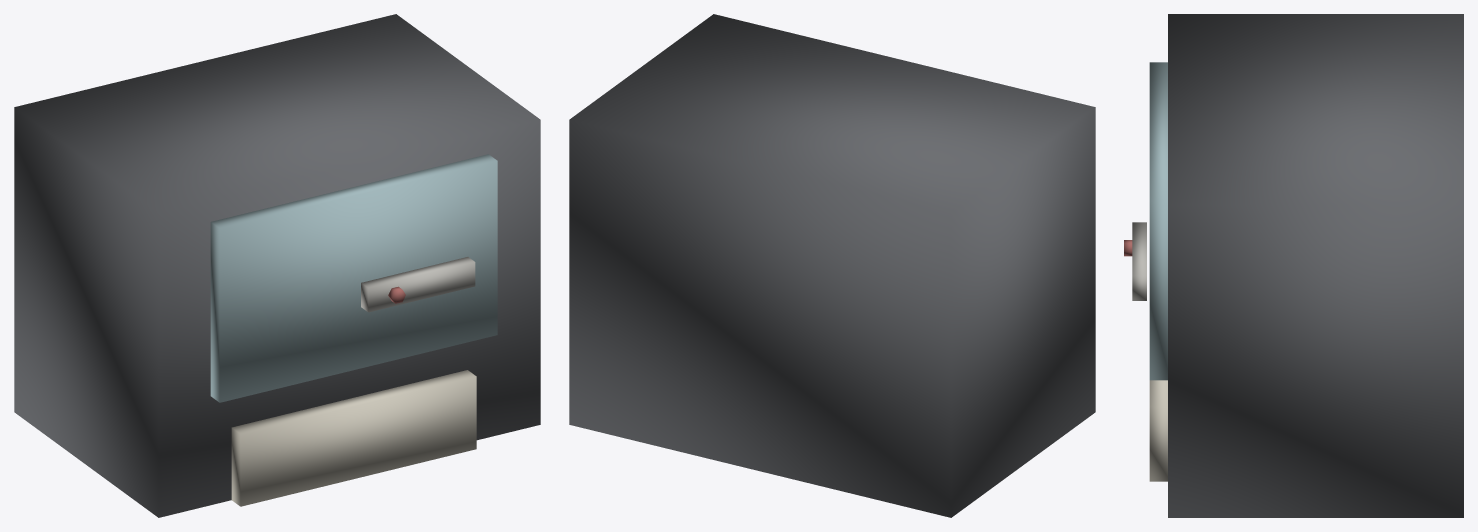
File: television.glb
The picture shows the model from 3 angles, left to right: view 1: azimuth 30°, elevation 25°; view 2: azimuth 150°, elevation 25°; view 3: azimuth 270°, elevation 25°; orthographic projection. The views are drawn at different scales.
Visible parts, largest first — view 1: world; view 2: world; view 3: world.
Part boxes in pixels (x1=…): world: x1=14, y1=14, x2=540, y2=517; world: x1=569, y1=14, x2=1095, y2=517; world: x1=1124, y1=14, x2=1463, y2=517.
Size of the model in its own units: 0.55 by 0.42 by 0.4135.
